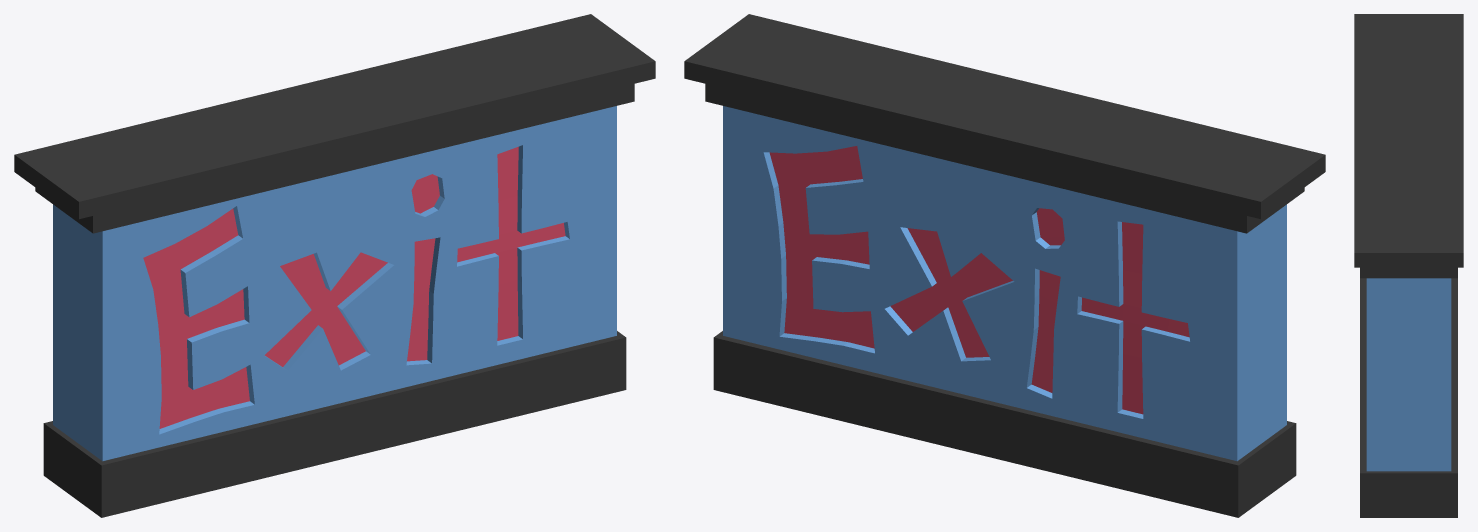
Rendered from ExitSignUVd.fbx.
The picture shows the model from 3 angles, left to right: view 1: azimuth 30°, elevation 25°; view 2: azimuth 150°, elevation 25°; view 3: azimuth 270°, elevation 25°; orthographic projection. The views are drawn at different scales.
Visible parts, largest first — view 1: ExitSign; view 2: ExitSign; view 3: ExitSign.
Part boxes in pixels (box(x1,y1,x2,y2)): ExitSign: box(14, 14, 655, 517); ExitSign: box(684, 14, 1325, 517); ExitSign: box(1354, 14, 1463, 517).
Bounding box in the file's own units: 62.43 × 33.61 × 12.1.
